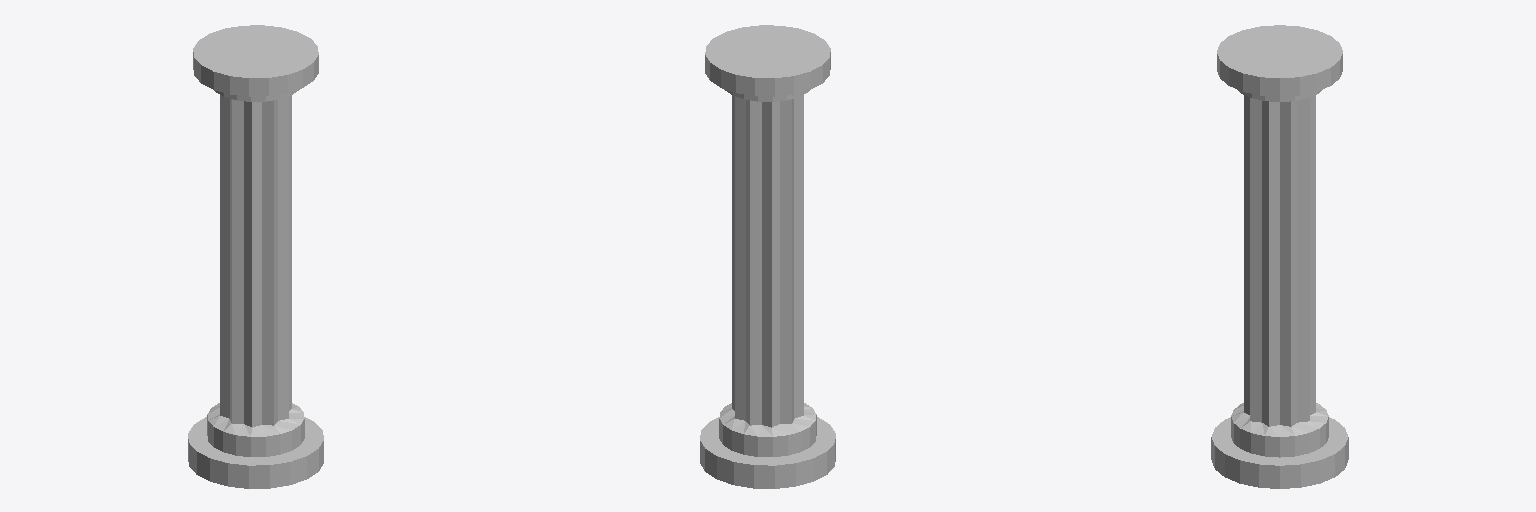
The model's file is pillar1.obj.
3 renders of one model, left to right at view 1: azimuth 30°, elevation 25°; view 2: azimuth 150°, elevation 25°; view 3: azimuth 270°, elevation 25°, orthographic.
Visible parts, largest first — view 1: pCylinder10; view 2: pCylinder10; view 3: pCylinder10.
Boxes of the visible parts, x1=… form: pCylinder10: x1=188, y1=25, x2=323, y2=488; pCylinder10: x1=700, y1=25, x2=835, y2=488; pCylinder10: x1=1211, y1=25, x2=1348, y2=488.
Size of the model in its own units: 0.8952 by 2.94 by 0.8952.